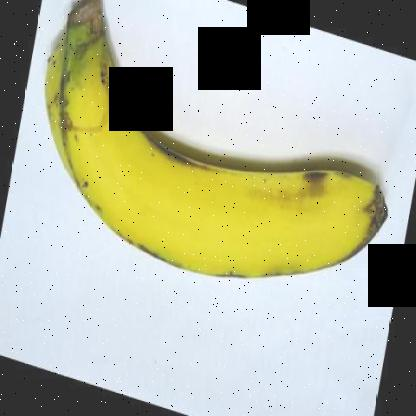freshripe: (32, 1, 401, 290)
